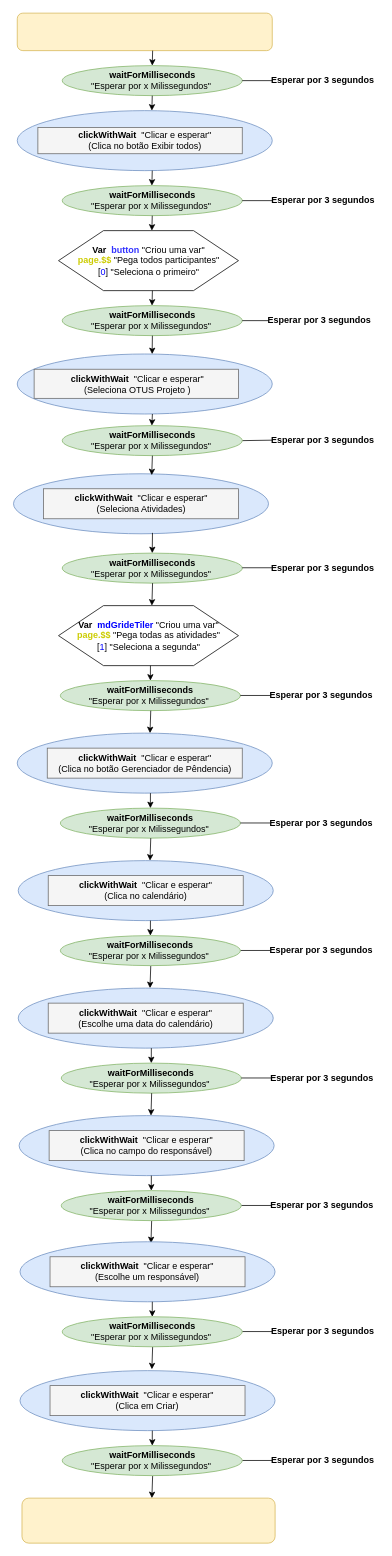
The diagram is 392 pixels wide and 1556 high, and some of its shapes have lost their labels. Here are the shapes that lost their labels. From the top down, the centre of each, then its label:
the point at 144,31: ABRE PÁGINA OTUS waitForMilliseconds "Esperar por milisegundos"
the point at 148,1520: FECHA PÁGINA OTUS
